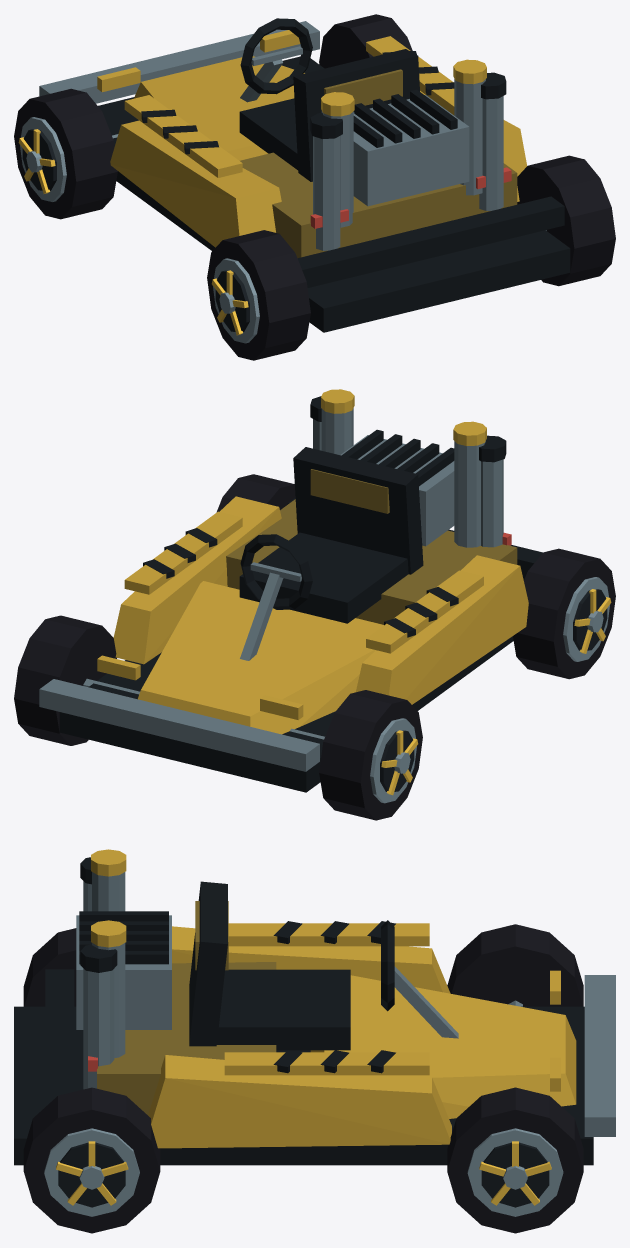
File: kart.glb
The picture shows the model from 3 angles, top to bottom: view 1: azimuth 30°, elevation 25°; view 2: azimuth 150°, elevation 25°; view 3: azimuth 270°, elevation 25°; orthographic projection. The views are drawn at different scales.
Parts seen in each view (by area): view 1: chassis, wheel-rear-left, wheel-front-left, wheel-rear-right, wheel-front-right; view 2: chassis, wheel-front-left, wheel-rear-left, wheel-front-right, wheel-rear-right; view 3: chassis, wheel-front-right, wheel-rear-right, wheel-front-left, wheel-rear-left.
Part boxes in pixels (x1,y1,x2,y2): chassis: (39, 18, 570, 332); wheel-rear-left: (207, 230, 310, 360); wheel-front-left: (14, 88, 117, 219); wheel-rear-right: (517, 155, 615, 286); wheel-front-right: (319, 14, 412, 68); chassis: (39, 389, 542, 792); wheel-front-left: (319, 690, 422, 820); wheel-rear-left: (513, 548, 615, 679); wheel-front-right: (14, 615, 116, 745); wheel-rear-right: (216, 474, 295, 512); chassis: (14, 849, 615, 1165); wheel-front-right: (447, 1087, 583, 1233); wheel-rear-right: (23, 1087, 160, 1233); wheel-front-left: (447, 924, 583, 1006); wheel-rear-left: (23, 928, 76, 1006).
Bounding box in the file's own units: 2.42 × 1.4 × 3.09.
